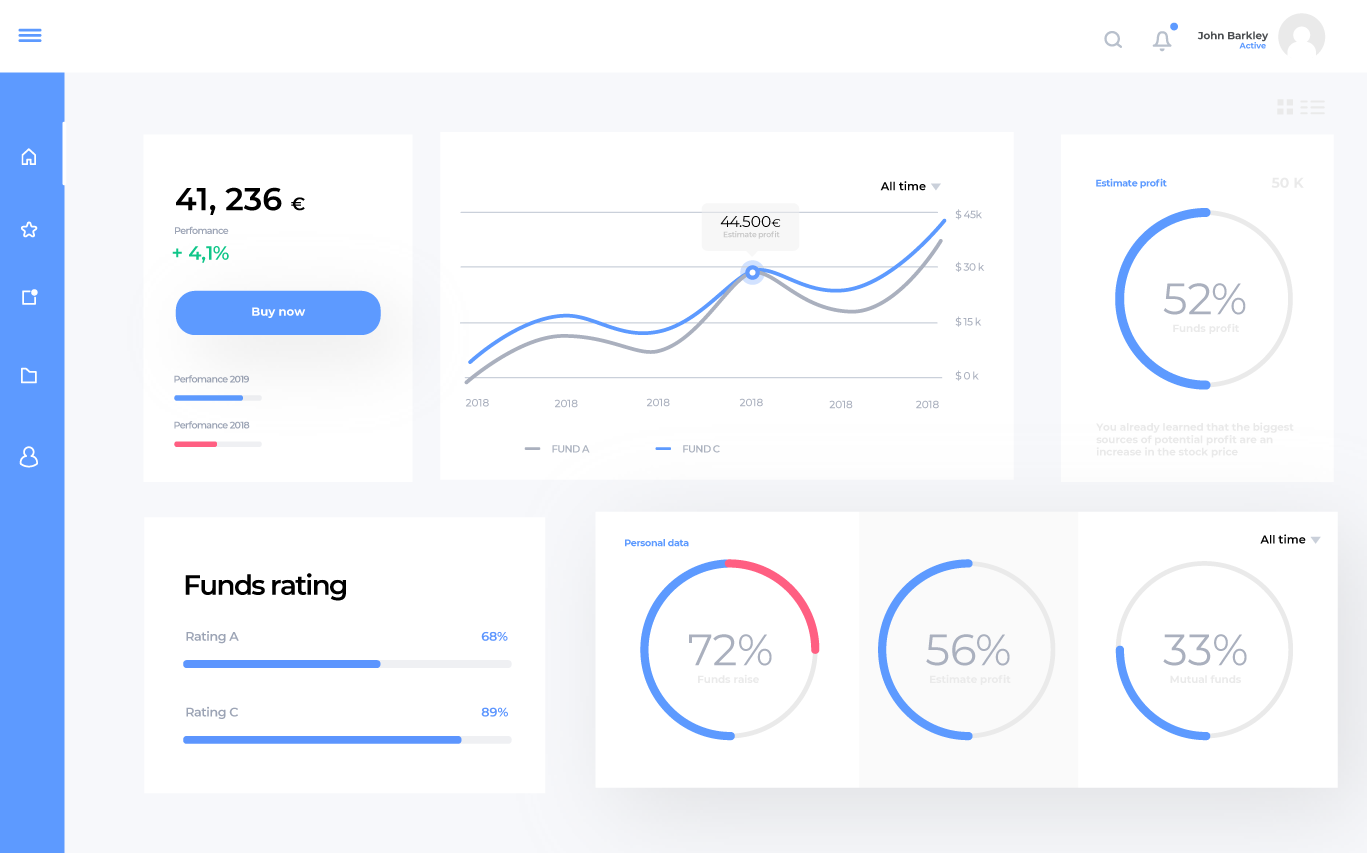block: (595, 512, 1340, 790), (143, 518, 546, 795), (1, 1, 1367, 74), (141, 135, 414, 483), (1, 73, 65, 853), (929, 176, 946, 195)
button: (177, 292, 381, 335)
chart: (439, 133, 1014, 482), (1062, 133, 1335, 482), (1077, 511, 1337, 790), (595, 513, 859, 787), (860, 512, 1076, 788), (176, 699, 522, 769), (176, 615, 521, 684), (168, 414, 270, 453), (168, 369, 268, 408)
icon: (1276, 12, 1325, 64), (1096, 21, 1132, 60), (1145, 19, 1181, 58), (12, 19, 52, 52), (13, 139, 49, 175), (11, 211, 47, 247), (12, 278, 48, 314), (10, 355, 46, 391), (10, 436, 46, 472), (1274, 94, 1328, 118), (1306, 529, 1326, 547)
